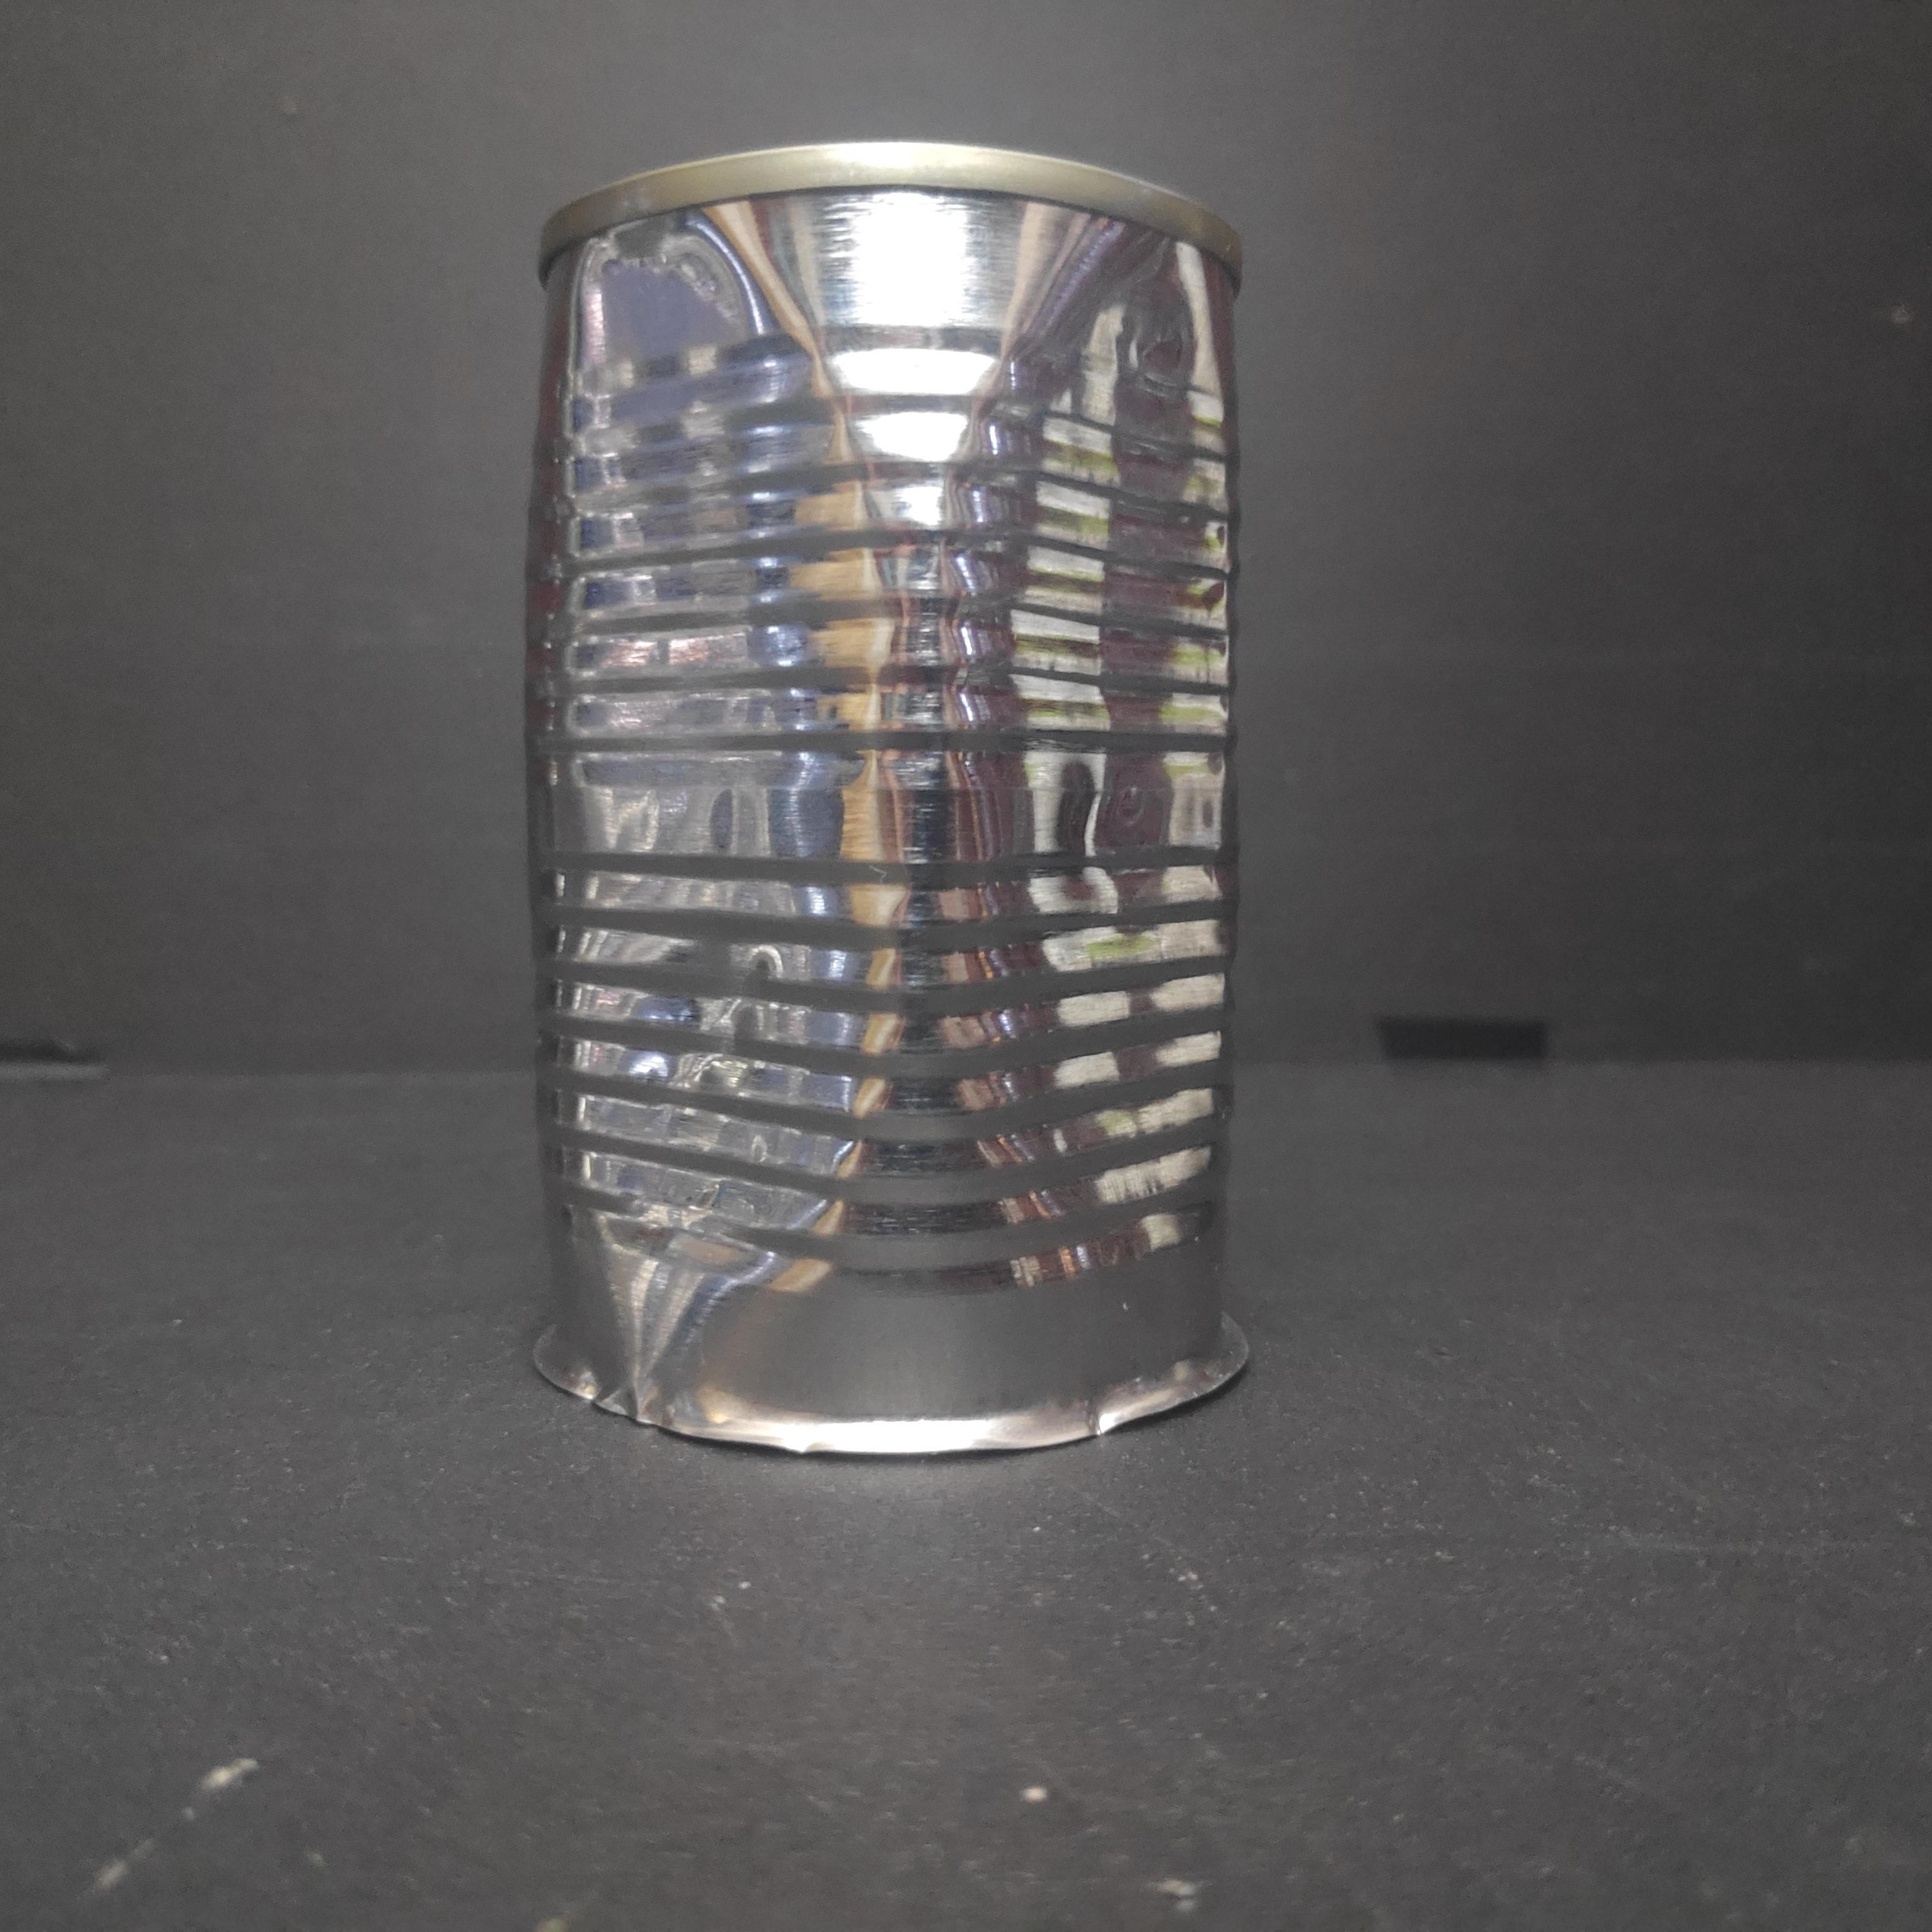Dented: (515, 119, 1269, 1476)
